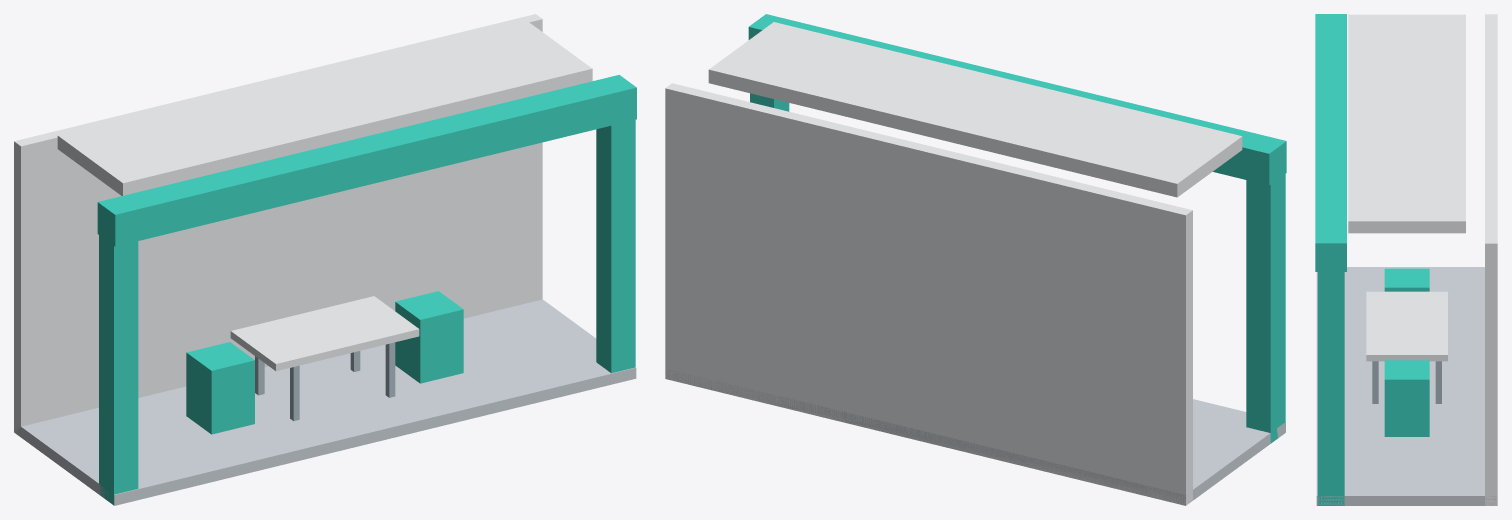
The picture shows the model from 3 angles, left to right: view 1: azimuth 30°, elevation 25°; view 2: azimuth 150°, elevation 25°; view 3: azimuth 270°, elevation 25°; orthographic projection. The views are drawn at different scales.
Parts seen in each view (by area): view 1: Exhibition Booth Concept; view 2: Exhibition Booth Concept; view 3: Exhibition Booth Concept.
Part boxes in pixels (x1=…): Exhibition Booth Concept: x1=14, y1=14, x2=636, y2=505; Exhibition Booth Concept: x1=665, y1=14, x2=1286, y2=505; Exhibition Booth Concept: x1=1315, y1=14, x2=1497, y2=505.
Bounding box in the file's own units: 6 × 3.34 × 2.01.
